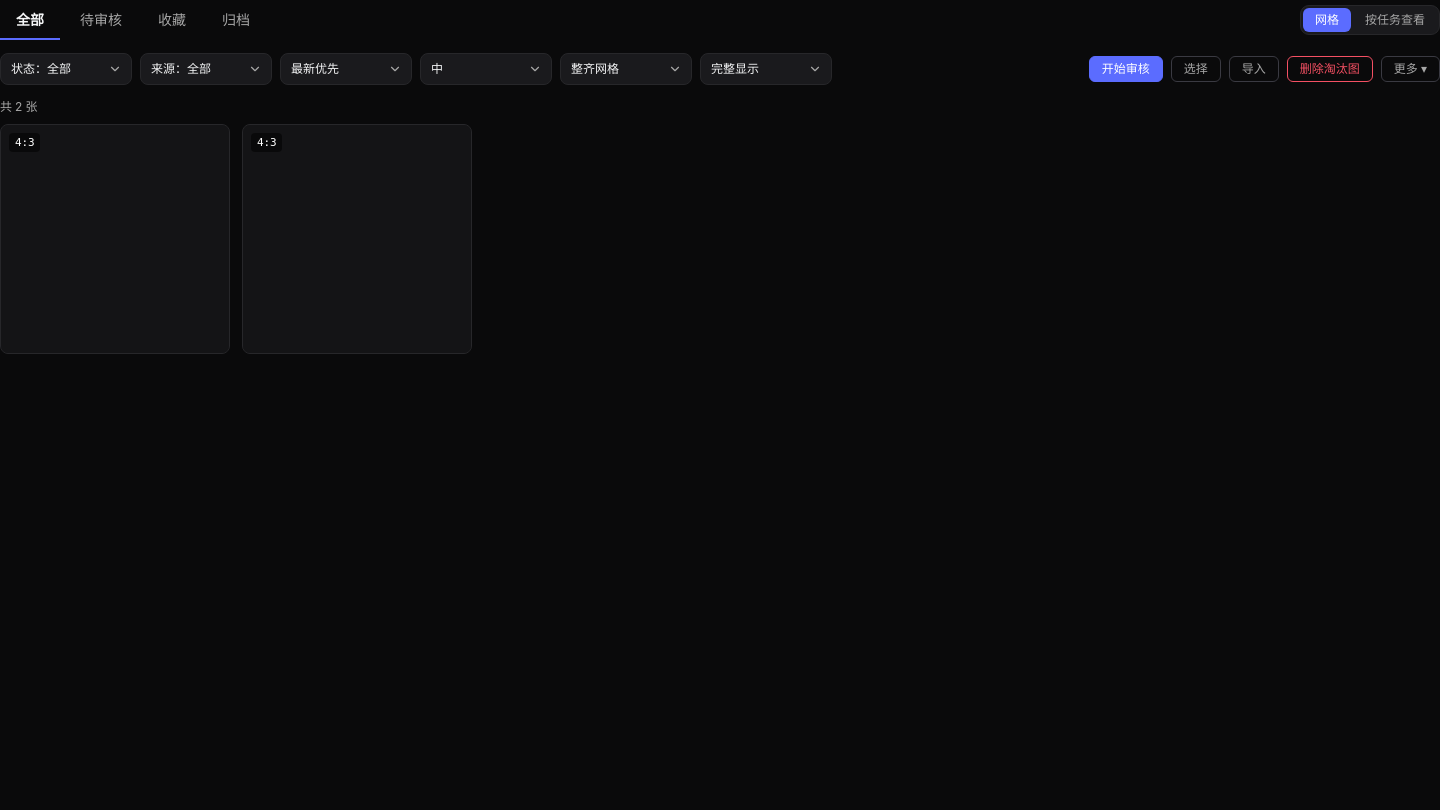
Test: Gallery 淘汰图删除入口 › 多选删除使用相同 ids 预览和确认，完成后刷新并退出选择
expect the text "共 2 张" is shown: met, box [0, 99, 37, 114]
Click the button "选择": (1196, 69) [1171, 56, 1221, 82]
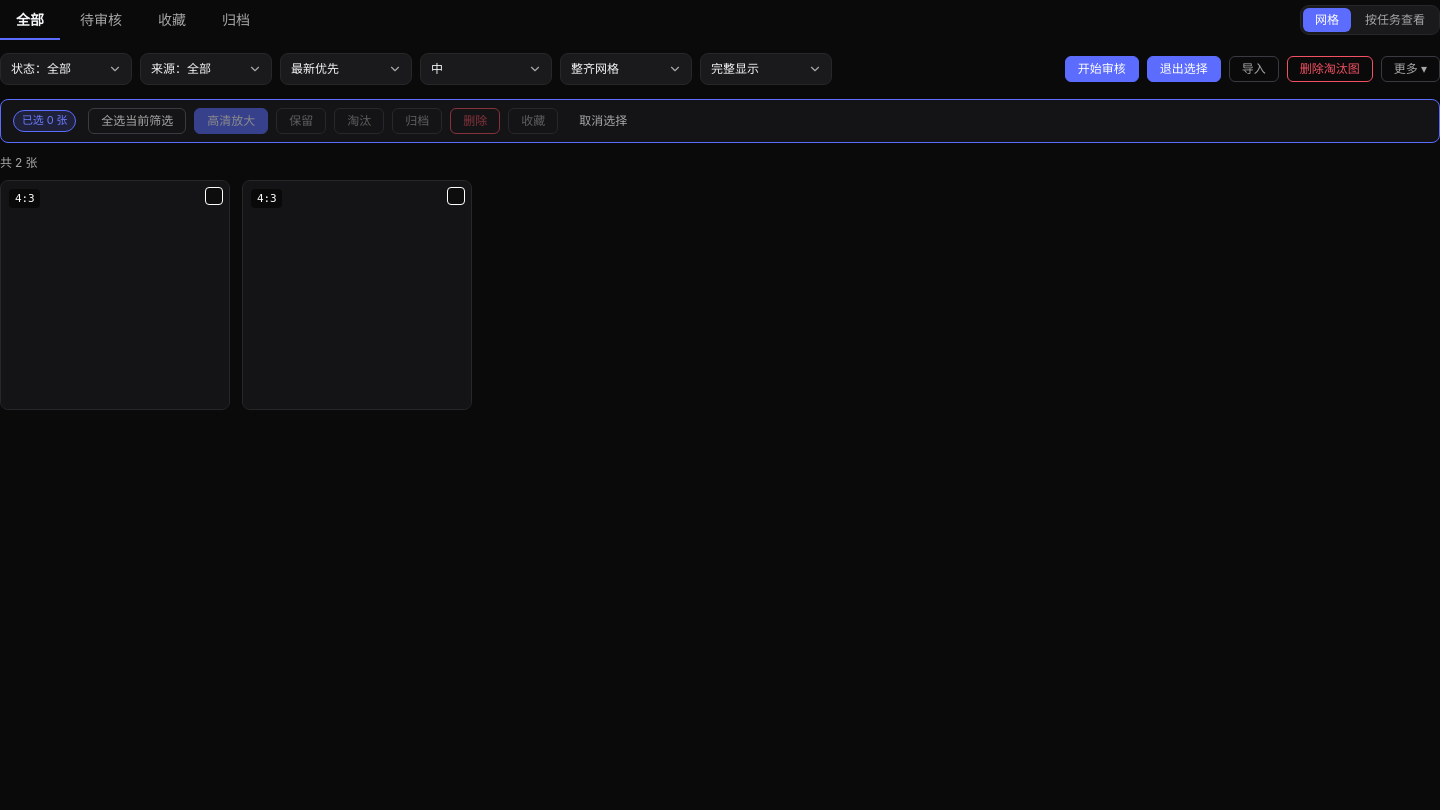
Click the element with class "gal-card" showing "4:3": (115, 295) [0, 180, 230, 410]
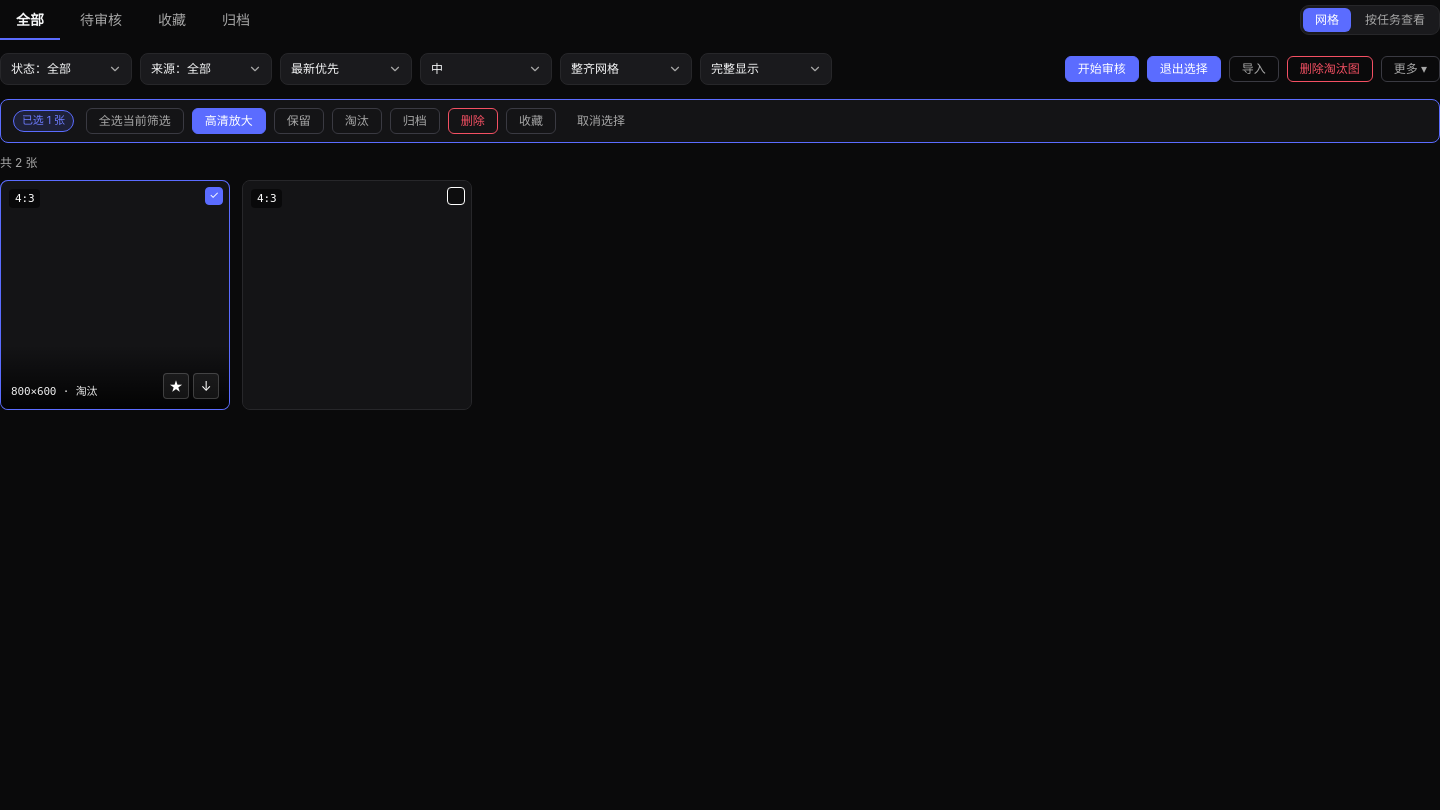
Click the element with class "gal-card" showing "4:3": (357, 295) [242, 180, 472, 410]
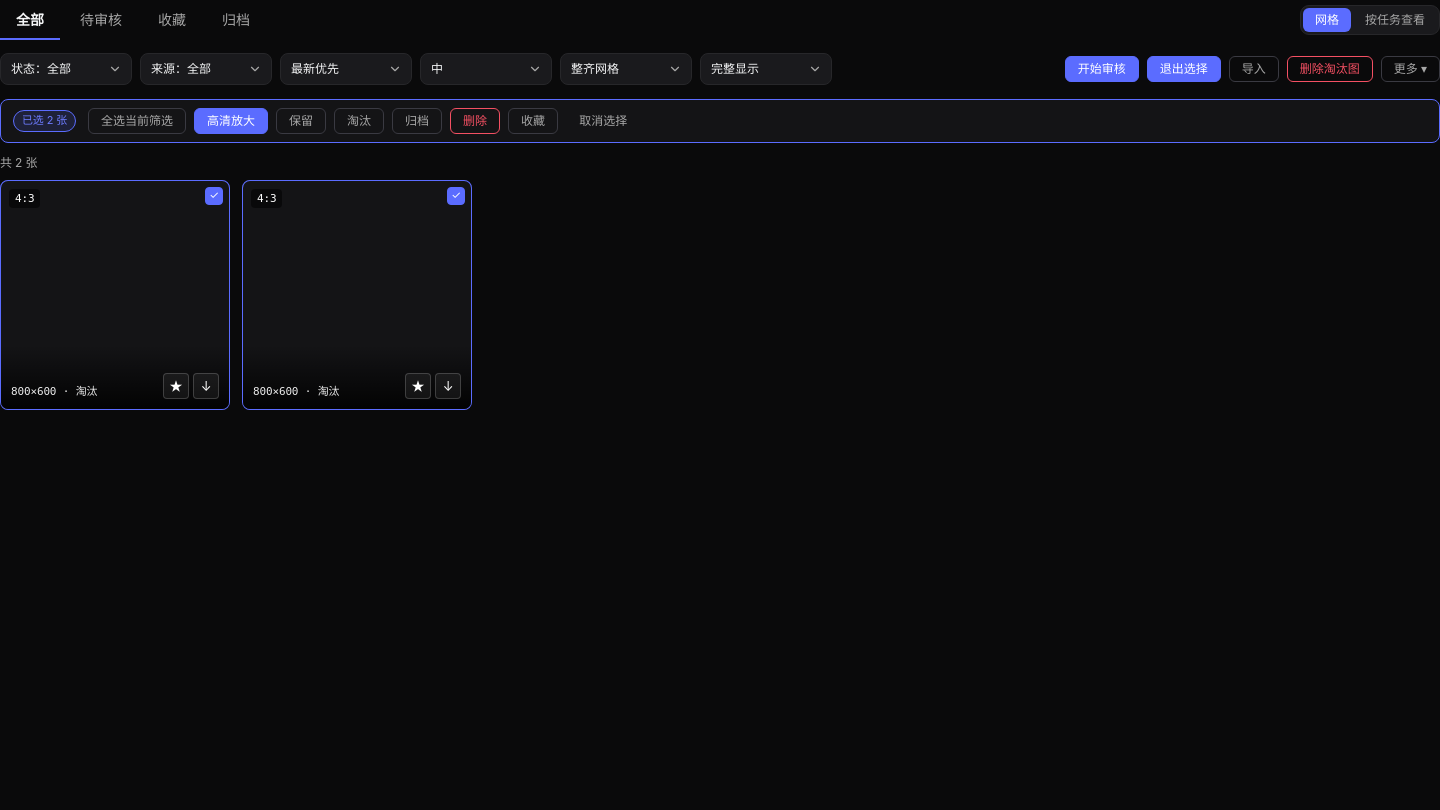
expect the text "已选 2 张" is shown: met, box [13, 110, 76, 132]
Click the button "删除": (475, 121) [450, 108, 500, 134]
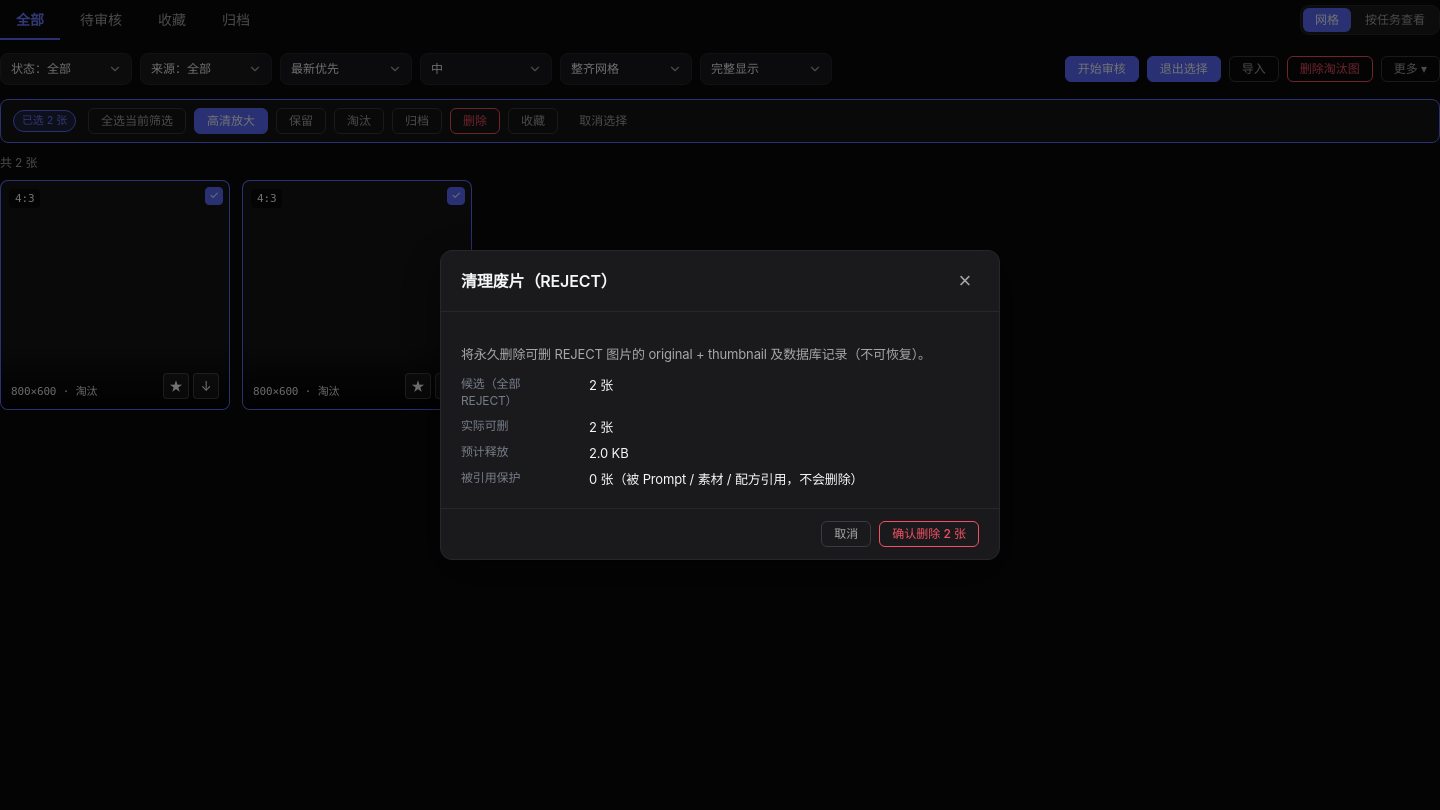
expect the text "实际可删" is shown: met, box [461, 418, 508, 433]
Click the button "确认删除 2 张": (929, 534) [879, 521, 979, 547]
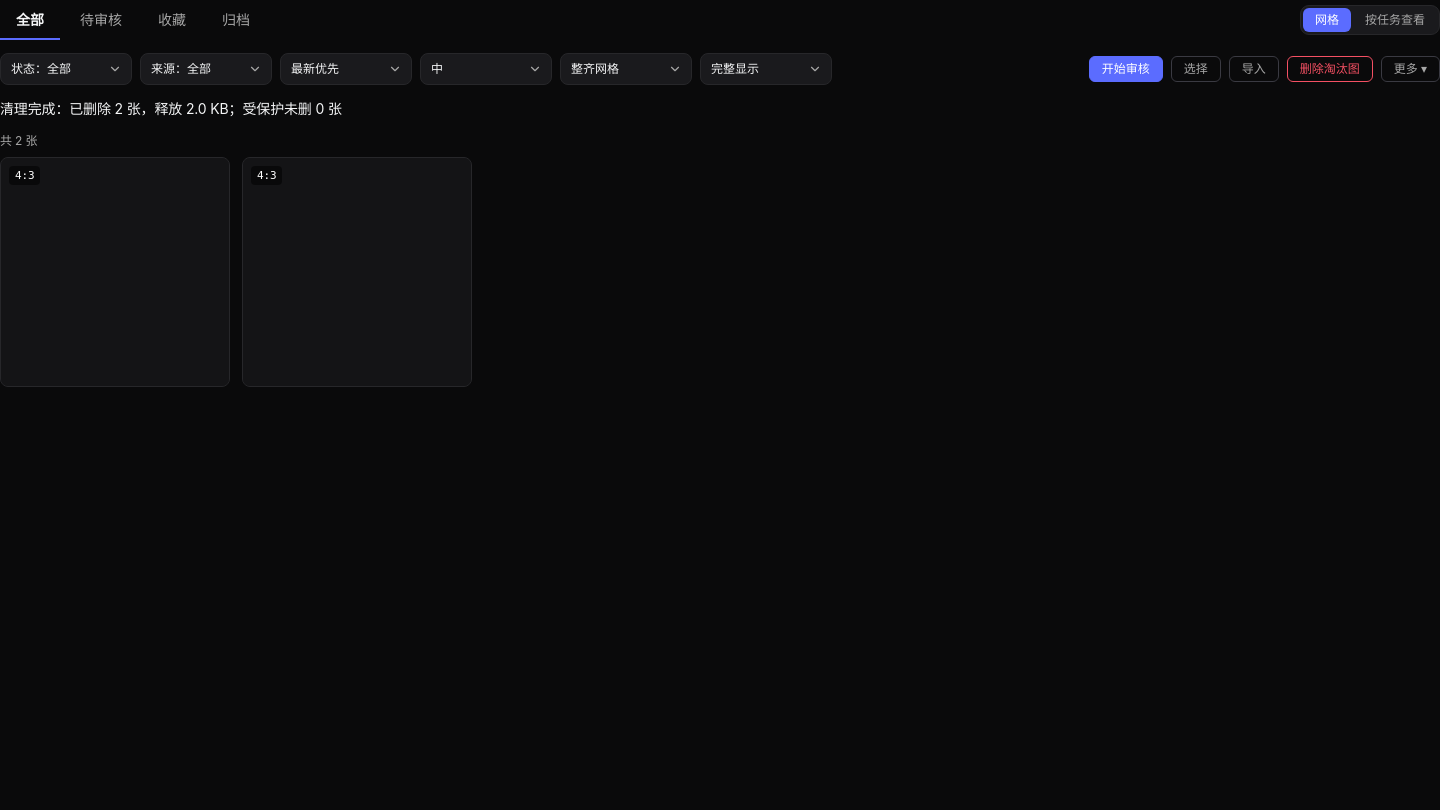
expect the text "已选 2 张" is gone: met
expect the message shows "已删除 2 张": met, box [0, 100, 342, 117]
